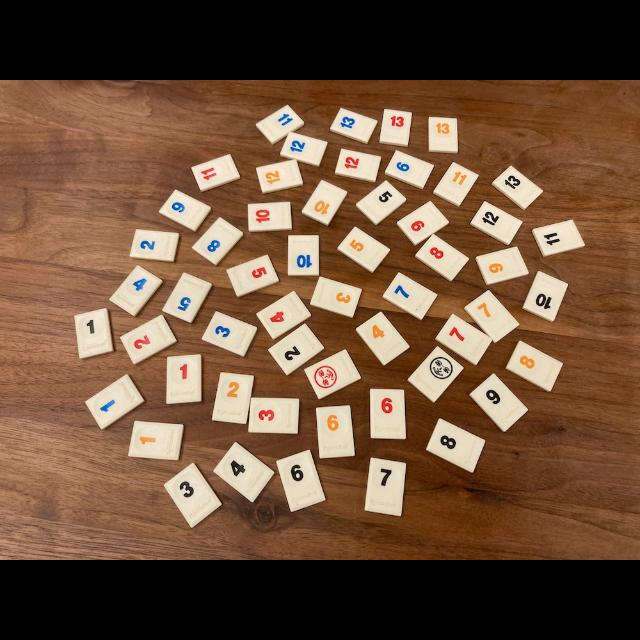black_1: (75, 309, 114, 359)
black_10: (524, 271, 568, 321)
black_11: (532, 220, 585, 256)
black_12: (470, 201, 522, 245)
black_13: (492, 166, 542, 210)
black_2: (269, 324, 324, 375)
black_3: (164, 462, 221, 528)
black_4: (214, 442, 274, 502)
black_5: (356, 181, 406, 225)
black_6: (276, 450, 325, 511)
black_7: (365, 458, 406, 516)
black_8: (426, 419, 485, 472)
black_9: (471, 374, 528, 431)
blue_1: (86, 375, 144, 429)
blue_10: (288, 236, 319, 276)
blue_11: (256, 105, 304, 144)
blue_12: (280, 132, 328, 166)
blue_13: (331, 109, 378, 144)
blue_2: (131, 229, 179, 261)
blue_3: (204, 311, 258, 356)
blue_4: (110, 265, 162, 316)
blue_5: (162, 272, 211, 322)
blue_6: (385, 150, 434, 189)
blue_7: (382, 272, 438, 320)
blue_8: (192, 218, 244, 265)
blue_9: (159, 190, 211, 231)
joker: (408, 346, 464, 402), (305, 350, 361, 399)
orange_1: (129, 421, 184, 459)
orange_10: (301, 180, 348, 225)
orange_11: (434, 162, 479, 206)
orange_12: (257, 160, 302, 194)
orange_13: (429, 116, 459, 154)
orange_2: (212, 372, 254, 424)
orange_3: (310, 276, 361, 318)
orange_4: (356, 311, 409, 365)
orange_5: (338, 226, 390, 272)
orange_6: (317, 406, 354, 459)
orange_7: (464, 290, 519, 342)
orange_8: (506, 341, 562, 391)
orange_9: (477, 246, 529, 285)
red_1: (166, 354, 201, 403)
red_10: (248, 201, 291, 232)
red_11: (191, 154, 240, 191)
red_12: (336, 149, 381, 182)
red_13: (379, 109, 412, 146)
red_2: (120, 315, 176, 364)
red_3: (249, 399, 298, 433)
red_4: (256, 291, 311, 339)
red_5: (226, 255, 279, 296)
red_6: (370, 389, 406, 439)
red_7: (435, 314, 491, 365)
red_8: (416, 235, 469, 281)
red_9: (396, 201, 449, 245)
